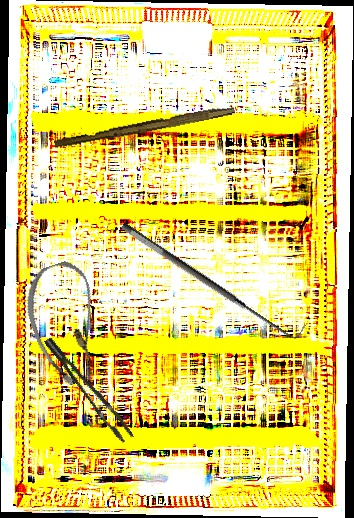Cannula: (15, 256, 118, 391)
Hook Surgical: (119, 208, 307, 347)
Scalpel Handle: (53, 101, 236, 152)
Tissue Forceps: (44, 327, 134, 451)
